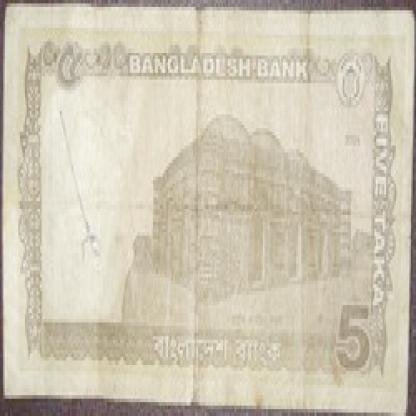Five Taka: (374, 101, 390, 322), (336, 298, 373, 378), (55, 38, 85, 94)
